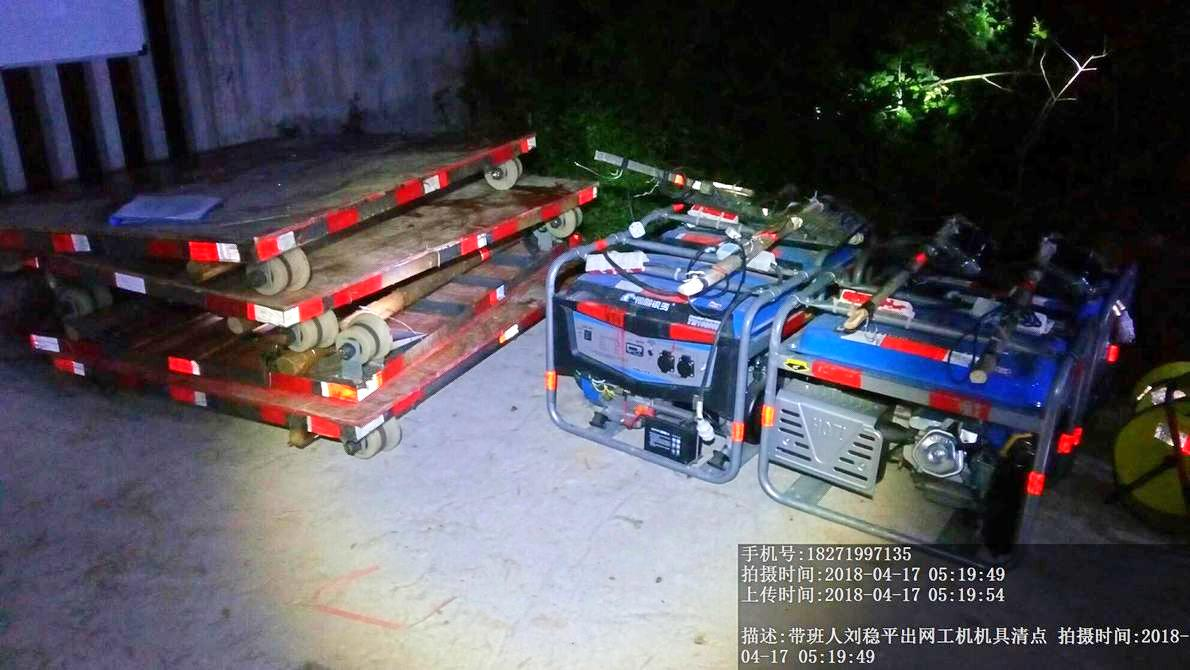DJ: (770, 255, 1090, 549), (542, 232, 770, 487)
